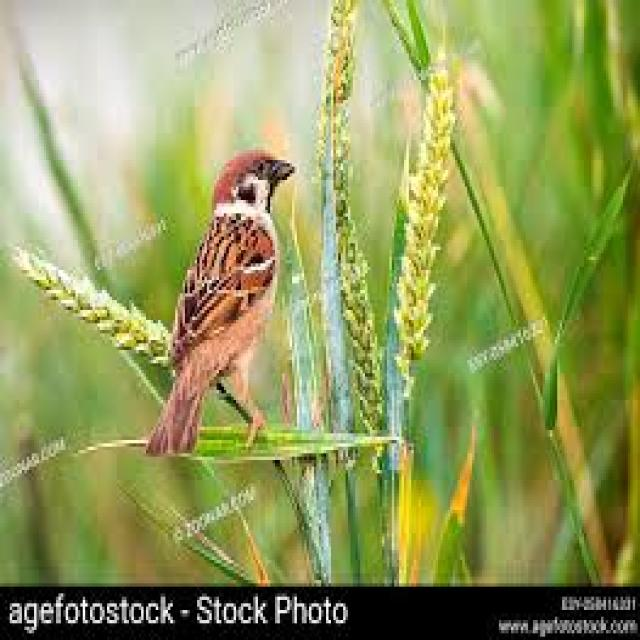bird: (145, 141, 287, 465)
